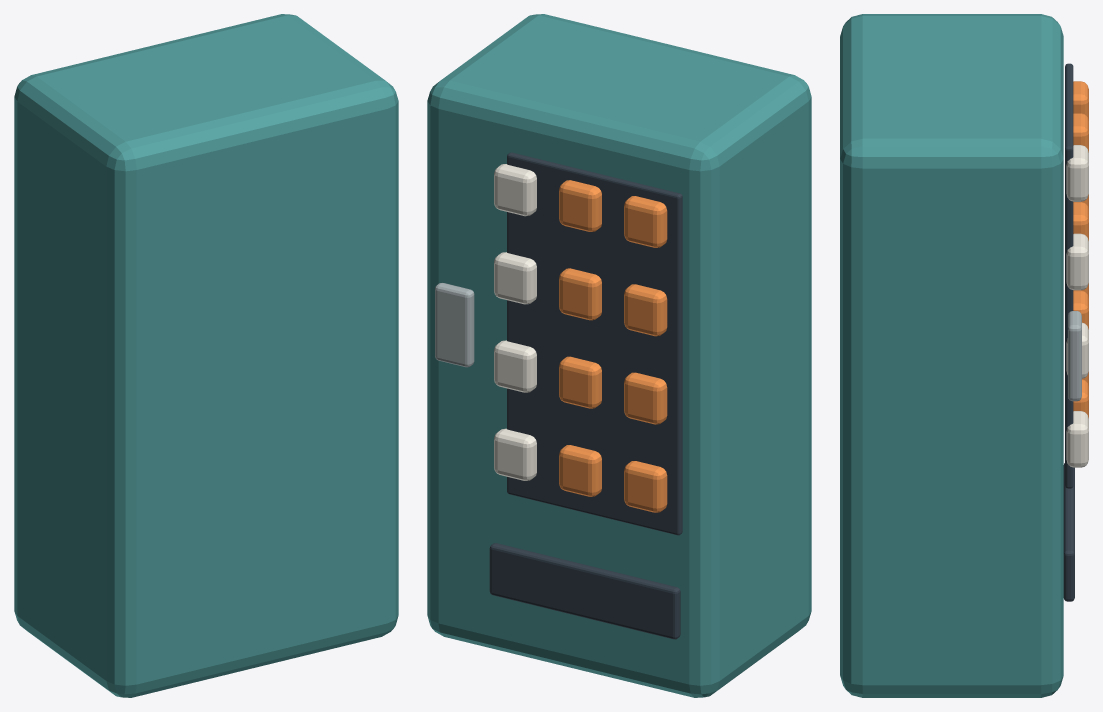
Rendered from vending.glb.
The picture shows the model from 3 angles, left to right: view 1: azimuth 30°, elevation 25°; view 2: azimuth 150°, elevation 25°; view 3: azimuth 270°, elevation 25°; orthographic projection.
Parts seen in each view (by area): view 1: vending; view 2: vending; view 3: vending.
Part boxes in pixels (<box>): vending: <box>14,14,398,697</box>; vending: <box>427,14,811,697</box>; vending: <box>840,14,1088,697</box>.
Size of the model in its own units: 1.2 by 2.2 by 0.89.
